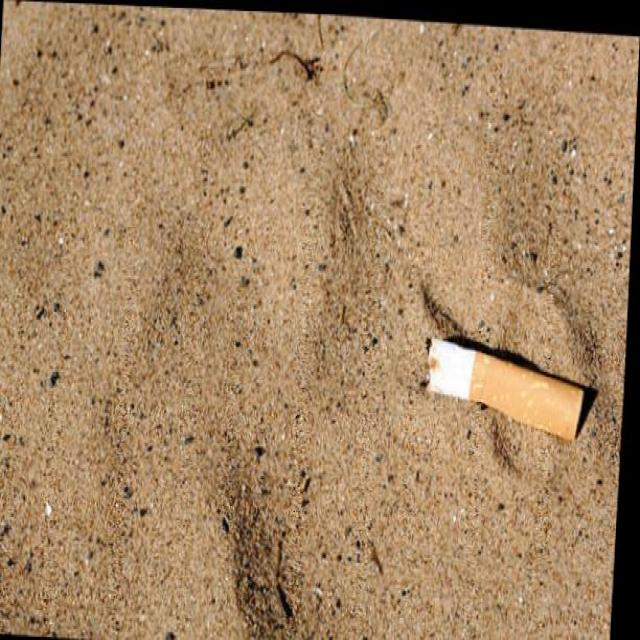cigarette: (420, 323, 588, 446)
